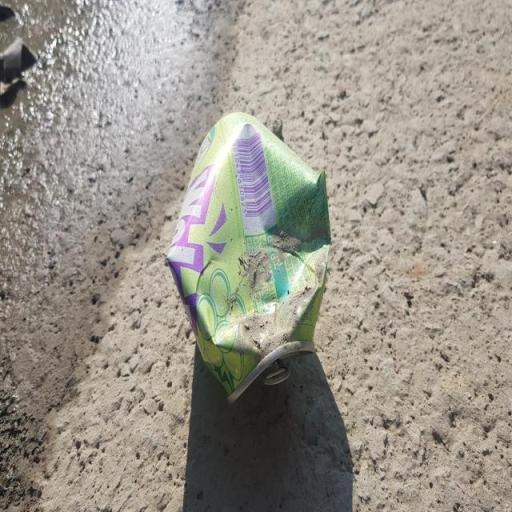metal: (156, 86, 346, 422)
